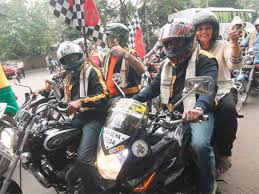helmet: (161, 15, 198, 64), (56, 40, 85, 73)
